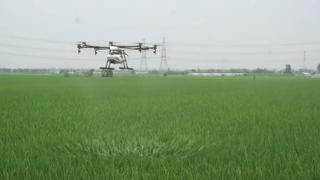UAV: (76, 40, 158, 71)
